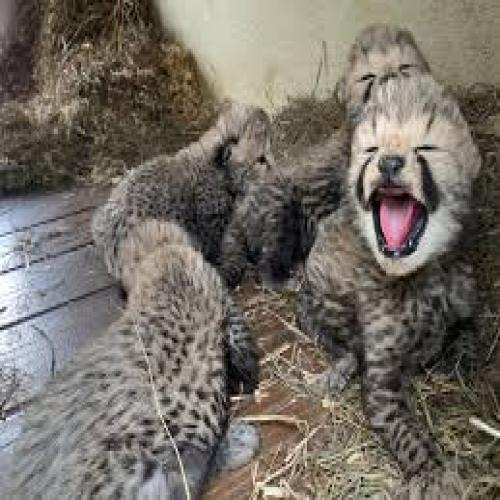cheetah-endangered: (298, 74, 491, 481), (12, 219, 261, 492), (215, 22, 432, 302), (96, 106, 275, 272)
